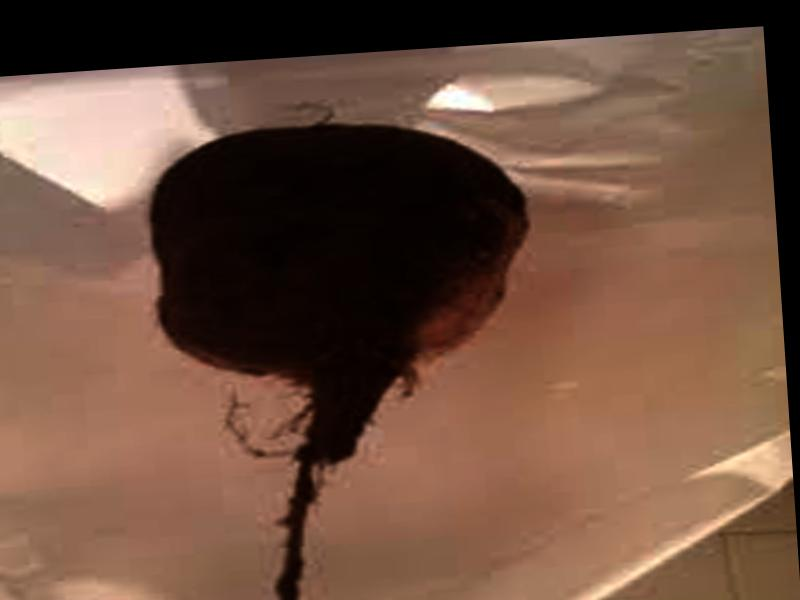Beet: (146, 111, 556, 600)
